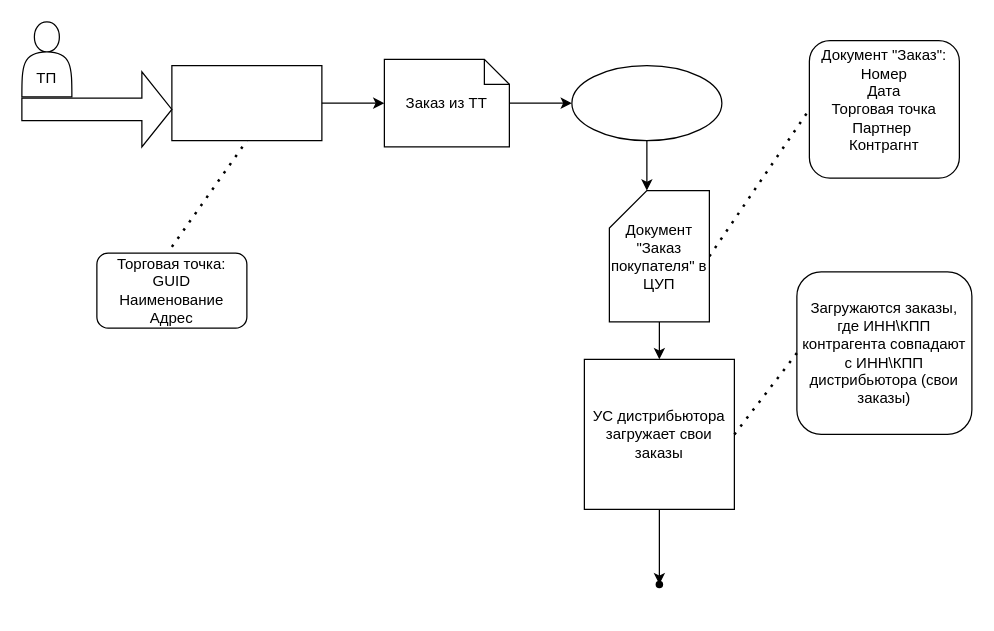
The diagram is 994 pixels wide and 631 high, and some of its shapes have lost their labels. Here are the shapes that lost their labels. From the top down, the centre of each, then its label:
[96,109]: Визит в ТТ
[246,102]: Торговая точка
[646,102]: Загружается в ЦУП
